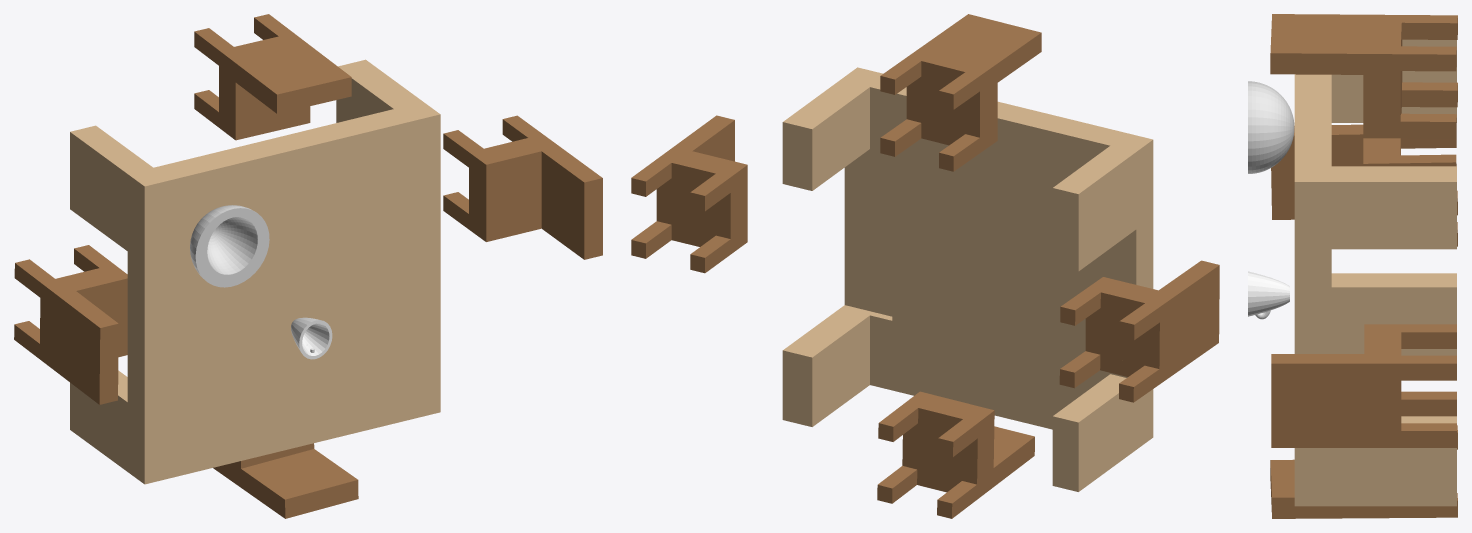
The model's file is tinker.obj.
3 renders of one model, left to right at view 1: azimuth 30°, elevation 25°; view 2: azimuth 150°, elevation 25°; view 3: azimuth 270°, elevation 25°, orthographic. The views are drawn at different scales.
Visible parts, largest first — view 1: group_0_14860437, group_0_11107152, group_0_15198183, group_0_16448250; view 2: group_0_14860437, group_0_11107152; view 3: group_0_11107152, group_0_14860437, group_0_15198183, group_0_16448250.
Part boxes in pixels (left/top/right/bottom): group_0_14860437: left=70, top=59, right=440, bottom=484; group_0_11107152: left=14, top=14, right=602, bottom=518; group_0_15198183: left=190, top=205, right=269, bottom=287; group_0_16448250: left=291, top=317, right=332, bottom=359; group_0_14860437: left=782, top=67, right=1153, bottom=491; group_0_11107152: left=631, top=14, right=1219, bottom=518; group_0_11107152: left=1270, top=14, right=1457, bottom=518; group_0_14860437: left=1294, top=39, right=1456, bottom=506; group_0_15198183: left=1248, top=81, right=1294, bottom=173; group_0_16448250: left=1248, top=271, right=1289, bottom=319.
Size of the model in its own units: 136 by 110 by 45.17.
